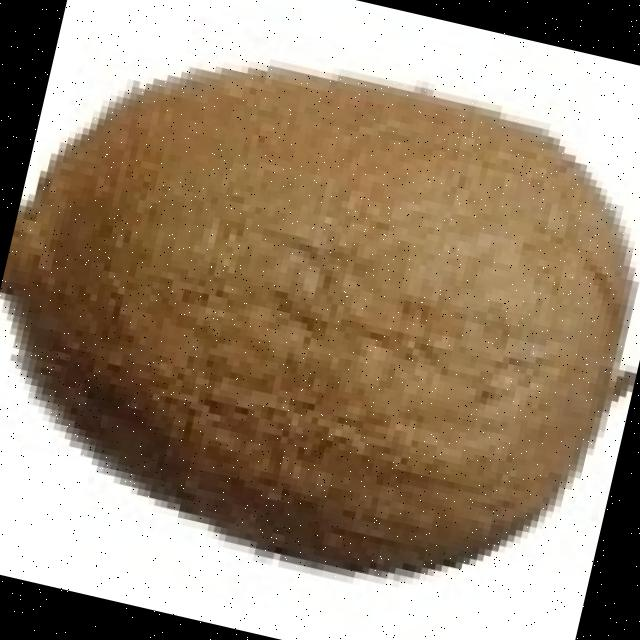kiwi: (13, 65, 640, 564)
